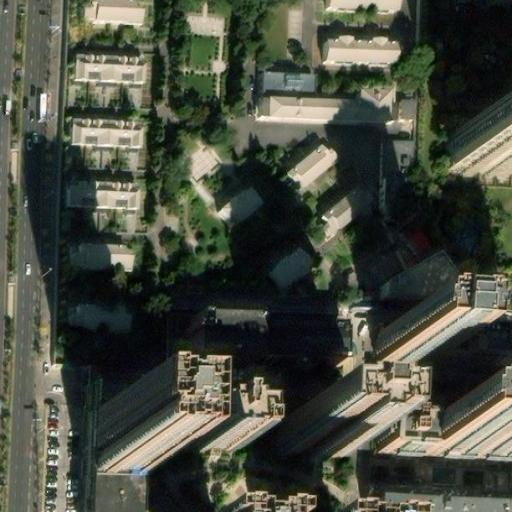building: (261, 79, 415, 125), (82, 423, 142, 484), (365, 489, 512, 512), (283, 412, 350, 454), (427, 425, 512, 458), (206, 307, 267, 349), (456, 127, 512, 171), (79, 480, 149, 512), (328, 33, 398, 64), (76, 53, 145, 84), (380, 313, 439, 349), (291, 143, 337, 187), (321, 188, 368, 231), (71, 118, 142, 146), (71, 181, 140, 209), (68, 303, 135, 330), (222, 397, 264, 439), (377, 417, 420, 456), (181, 143, 224, 182), (72, 241, 129, 270), (219, 187, 262, 225), (78, 0, 141, 24), (273, 250, 311, 288), (262, 72, 316, 96)
